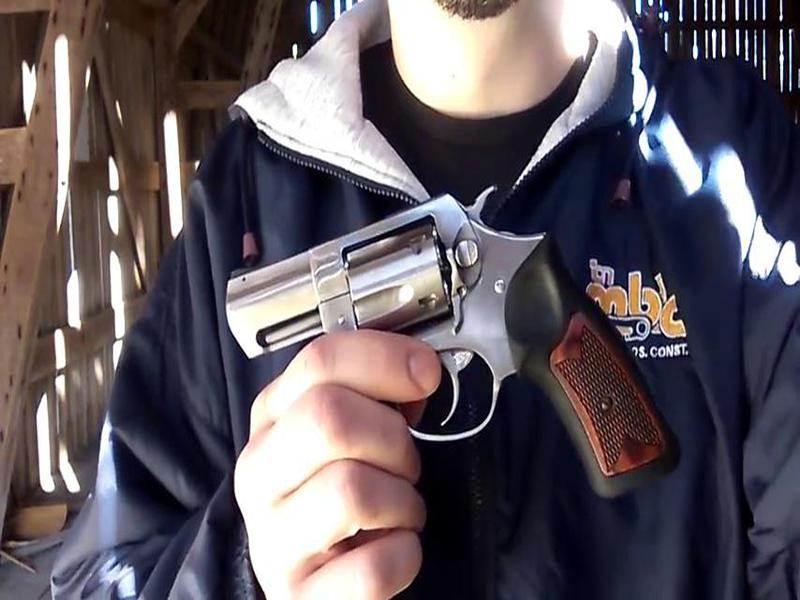Revolver: (218, 204, 704, 485)
